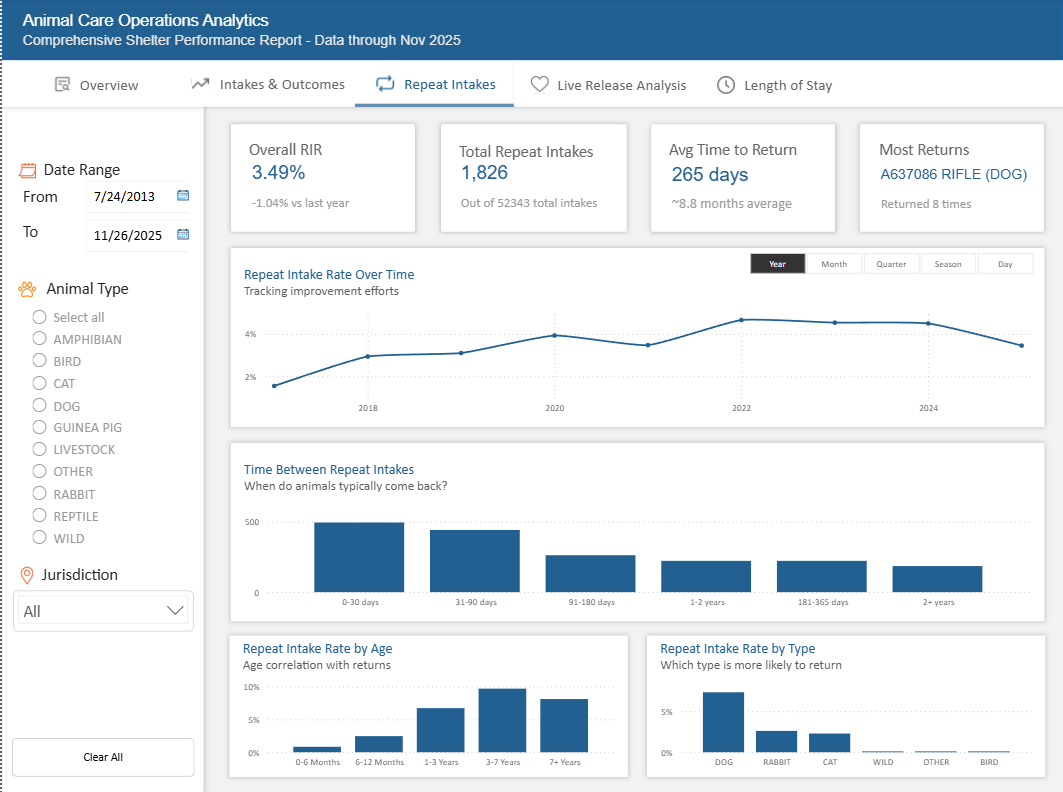

The page's visual inventory and layout, read from the dashboard file:
{"tool":"powerbi","page":{"name":"Repeat Intakes","canvas":[1200,900],"ordinal":2},"visuals":[{"type":"shape","box":[258.6,142.9,208.6,121.4],"z":0},{"type":"cardVisual","title":"Total Intakes(YTD)","fields":{"Data":["dataset.Repeat Intake Rate"]},"box":[258.6,142.9,208.6,121.4],"z":1000},{"type":"shape","box":[0,65.6,228.9,834.4],"z":2000},{"type":"shape","box":[0,9.9,1280.5,113.1],"z":3000},{"type":"shape","box":[0,0.8,1200,69.2],"z":4000},{"type":"textbox","box":[18.4,9.9,597.8,33.9],"z":5000},{"type":"textbox","box":[18.4,34.6,668.6,34.6],"z":6000},{"type":"slicer","fields":{"Values":["dataset.Intake Date"]},"box":[81.8,196.4,134.5,102.7],"z":7000},{"type":"textbox","box":[11.8,178.2,127.3,32.7],"z":8000},{"type":"image","box":[18.2,184.5,20,20],"z":9000},{"type":"textbox","box":[18.9,207.8,63.3,33.3],"z":10000},{"type":"textbox","box":[17.8,247.8,64.4,33.3],"z":11000},{"type":"listSlicer","fields":{"Values":["dataset.Animal Type"]},"box":[28.9,344.4,187.8,280],"z":12000},{"type":"textbox","box":[18.4,312.3,130,32.5],"z":13000},{"type":"image","box":[18.9,318.9,20,20],"z":14000},{"type":"textbox","box":[17.8,636.7,117.8,32.2],"z":15000},{"type":"image","box":[18.9,643.3,20,20],"z":16000},{"type":"slicer","fields":{"Values":["dataset.Jurisdiction"]},"box":[12.5,670,203.8,46],"z":17000},{"type":"actionButton","box":[11.3,836.7,206.3,43.8],"z":18000},{"type":"actionButton","box":[198.8,70,200,52.5],"z":19000},{"type":"actionButton","box":[578.8,70,210,55],"z":20000},{"type":"actionButton","box":[398.8,70,180,52.5],"z":21000},{"type":"actionButton","box":[788.8,70,180,55],"z":22000},{"type":"lineChart","title":"Repeat Intake Rate Over Time","fields":{"Category":["Date.YEAR"],"Y":["dataset.Repeat Intake Rate"]},"box":[258.6,282.7,920.1,202.1],"z":23000},{"type":"shape","box":[970,142.9,208.6,121.4],"z":24000},{"type":"shape","box":[732.9,142.9,208.6,121.4],"z":25000},{"type":"shape","box":[495.7,142.9,210,121.4],"z":26000},{"type":"cardVisual","fields":{"Data":["dataset.Repeat Intake Count"]},"box":[494.7,142.7,212,121.5],"z":27000},{"type":"cardVisual","fields":{"Data":["dataset.Avg Time to Return"]},"box":[732.9,144.3,208.6,120],"z":28000},{"type":"cardVisual","fields":{"Data":["dataset.Most Returns Animal"]},"box":[970,144.3,211.4,120],"z":29000},{"type":"textbox","box":[273.8,155,176.2,35],"z":30000},{"type":"textbox","box":[511.6,156.4,176.7,34.4],"z":31000},{"type":"textbox","box":[749.5,156.1,177,35],"z":32000},{"type":"textbox","box":[986.5,155.1,177,35],"z":33000},{"type":"columnChart","title":"Repeat Intake Rate by Type","fields":{"Category":["dataset.Animal Type"],"Y":["dataset.Repeat Intake Rate"]},"box":[728.6,721.4,450,160],"z":34000},{"type":"columnChart","title":"Repeat Intake Rate by Age","fields":{"Category":["AgeGroupTable.Age Group"],"Y":["dataset.Repeat Intake Rate"]},"box":[257.5,721.2,450,160],"z":35000},{"type":"columnChart","title":"Time Between Repeat Intakes","fields":{"Category":["dataset.days between intake group"],"Y":["dataset.Repeat Intake Count"]},"box":[258.6,502.9,920,201.4],"z":36000},{"type":"actionButton","box":[19,70,180,54],"z":37000},{"type":"slicer","fields":{"Values":["DateParameters.DateParameters"]},"box":[820,281.4,370,35.7],"z":38000}]}

Visuals, with their boxes on the page's 1200x900 design canvas (x1, y1, x2, y2). These are canvas units, not pixel positions in the 1063x792 screenshot, which may show the page scaled, cropped or inside an application window:
shape: bbox(259, 143, 467, 264)
"Total Intakes(YTD)" cardVisual: bbox(259, 143, 467, 264)
shape: bbox(0, 66, 229, 900)
shape: bbox(0, 10, 1280, 123)
shape: bbox(0, 1, 1200, 70)
textbox: bbox(18, 10, 616, 44)
textbox: bbox(18, 35, 687, 69)
slicer - dataset.Intake Date: bbox(82, 196, 216, 299)
textbox: bbox(12, 178, 139, 211)
image: bbox(18, 184, 38, 204)
textbox: bbox(19, 208, 82, 241)
textbox: bbox(18, 248, 82, 281)
listSlicer - dataset.Animal Type: bbox(29, 344, 217, 624)
textbox: bbox(18, 312, 148, 345)
image: bbox(19, 319, 39, 339)
textbox: bbox(18, 637, 136, 669)
image: bbox(19, 643, 39, 663)
slicer - dataset.Jurisdiction: bbox(12, 670, 216, 716)
actionButton: bbox(11, 837, 218, 880)
actionButton: bbox(199, 70, 399, 122)
actionButton: bbox(579, 70, 789, 125)
actionButton: bbox(399, 70, 579, 122)
actionButton: bbox(789, 70, 969, 125)
"Repeat Intake Rate Over Time" lineChart: bbox(259, 283, 1179, 485)
shape: bbox(970, 143, 1179, 264)
shape: bbox(733, 143, 942, 264)
shape: bbox(496, 143, 706, 264)
cardVisual - dataset.Repeat Intake Count: bbox(495, 143, 707, 264)
cardVisual - dataset.Avg Time to Return: bbox(733, 144, 942, 264)
cardVisual - dataset.Most Returns Animal: bbox(970, 144, 1181, 264)
textbox: bbox(274, 155, 450, 190)
textbox: bbox(512, 156, 688, 191)
textbox: bbox(750, 156, 926, 191)
textbox: bbox(986, 155, 1164, 190)
"Repeat Intake Rate by Type" columnChart: bbox(729, 721, 1179, 881)
"Repeat Intake Rate by Age" columnChart: bbox(258, 721, 708, 881)
"Time Between Repeat Intakes" columnChart: bbox(259, 503, 1179, 704)
actionButton: bbox(19, 70, 199, 124)
slicer - DateParameters.DateParameters: bbox(820, 281, 1190, 317)
